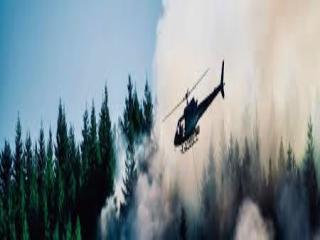smoke: (95, 121, 146, 229), (233, 177, 273, 240)
